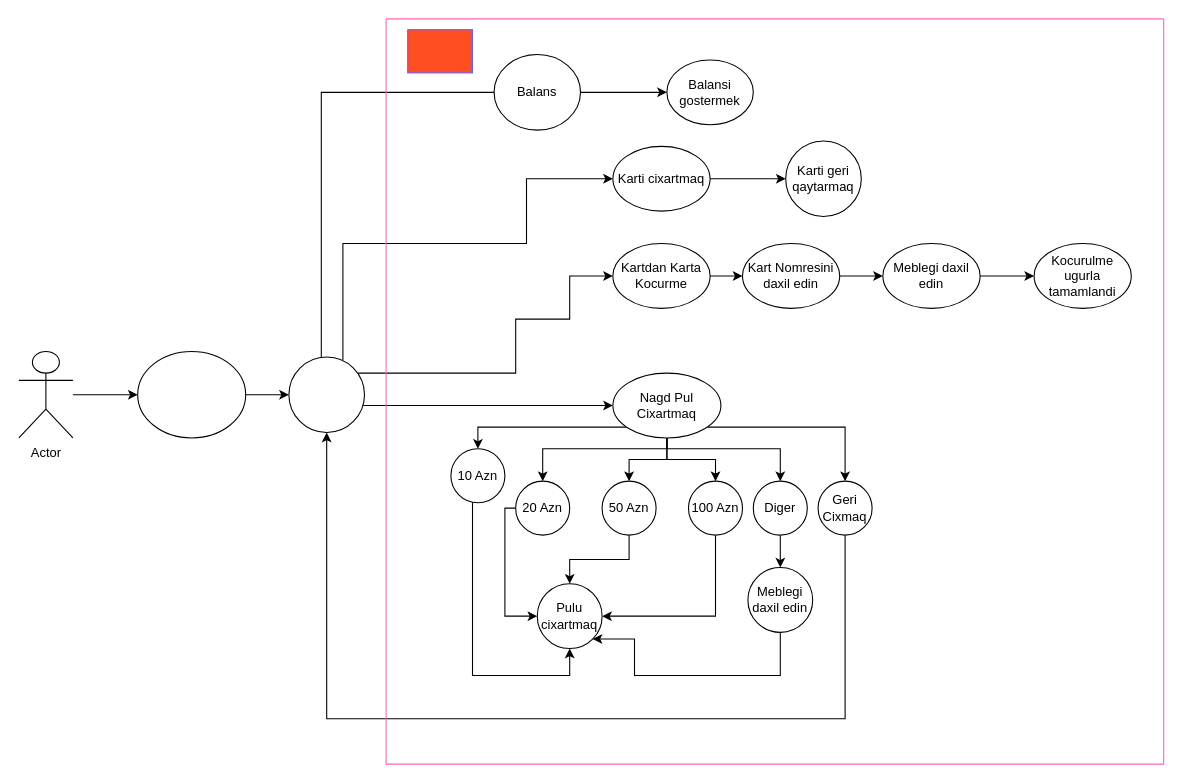
The diagram is 1183 pixels wide and 783 high, and some of its shapes have lost their labels. Here are the shapes that lost their labels. From the top down, the centre of each, then its label:
At point 440,51: "ATM".
At point 191,394: "Enter Name".
At point 326,394: "Enter PIN".
